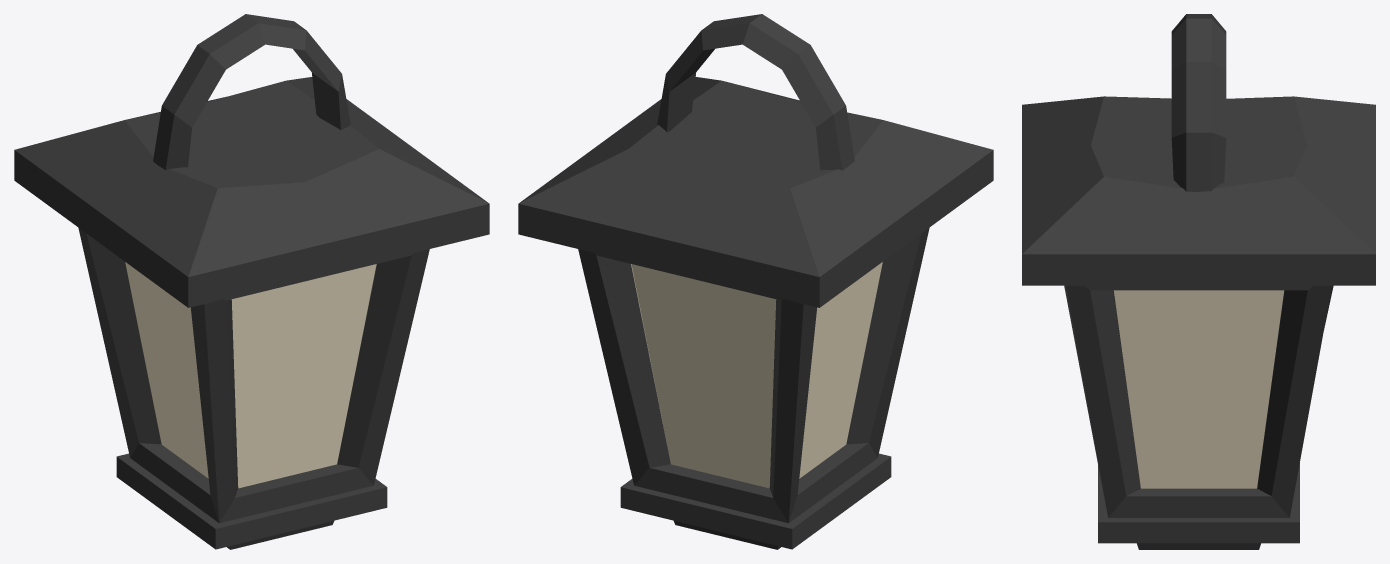
The model's file is fantasy_lamp_small_1.fbx.
The picture shows the model from 3 angles, left to right: view 1: azimuth 30°, elevation 25°; view 2: azimuth 150°, elevation 25°; view 3: azimuth 270°, elevation 25°; orthographic projection.
Visible parts, largest first — view 1: Cube.263, Cube.264; view 2: Cube.263, Cube.264; view 3: Cube.263, Cube.264.
Boxes of the visible parts, box(x1,y1,x2,y2) form: Cube.263: box(14, 14, 489, 549); Cube.264: box(125, 262, 376, 488); Cube.263: box(518, 14, 993, 549); Cube.264: box(631, 262, 882, 488); Cube.263: box(1022, 14, 1375, 549); Cube.264: box(1113, 290, 1284, 488).
Size of the model in its own units: 26.15 by 41.24 by 26.15.
